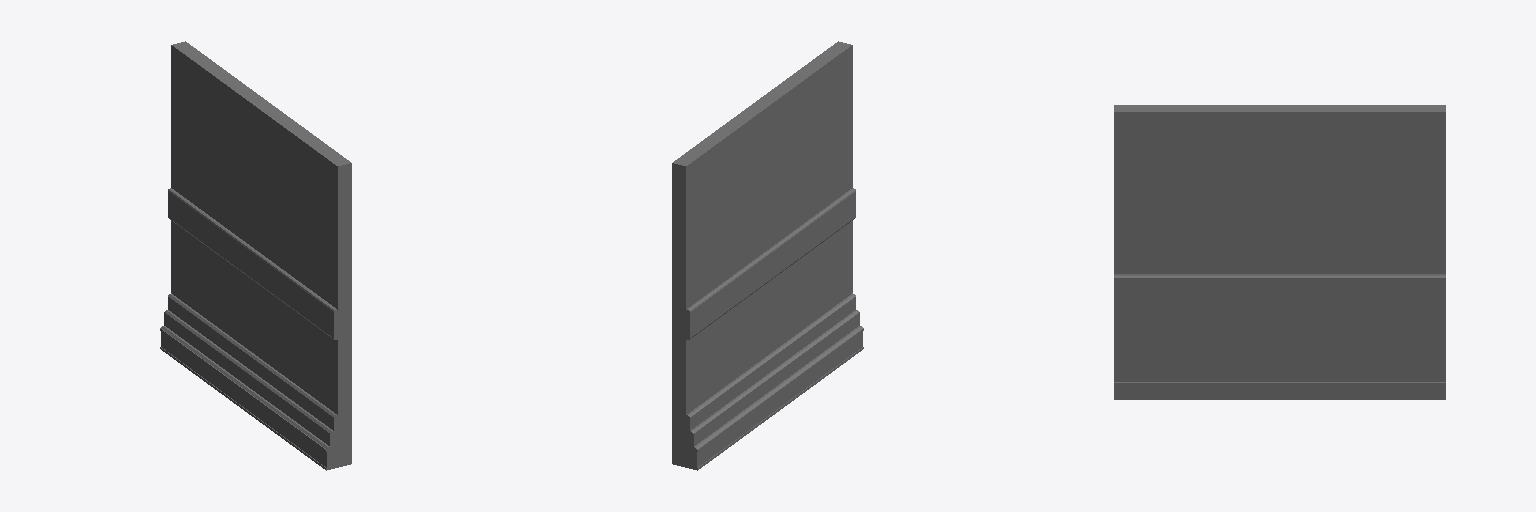
File: wall.obj
3 renders of one model, left to right at view 1: azimuth 30°, elevation 25°; view 2: azimuth 150°, elevation 25°; view 3: azimuth 270°, elevation 25°, orthographic.
Visible parts, largest first — view 1: pCube4; view 2: pCube4; view 3: pCube4.
Part boxes in pixels (x1,y1,x2,y2): pCube4: (160,41,351,470); pCube4: (672,41,863,470); pCube4: (1114,105,1445,399).
Size of the model in its own units: 36 by 400 by 400.